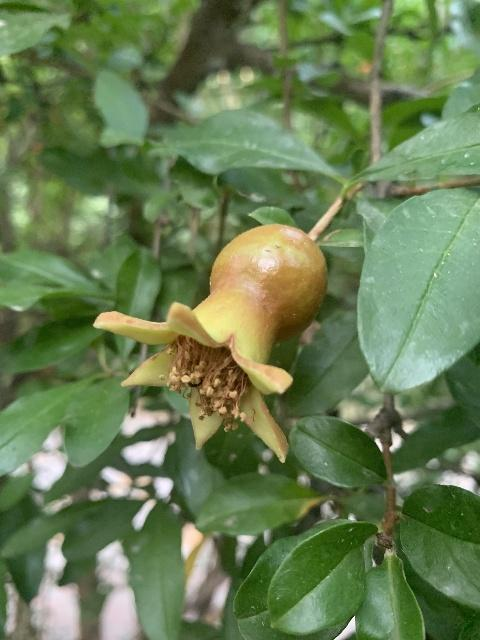early-fruit: (93, 222, 326, 461)
